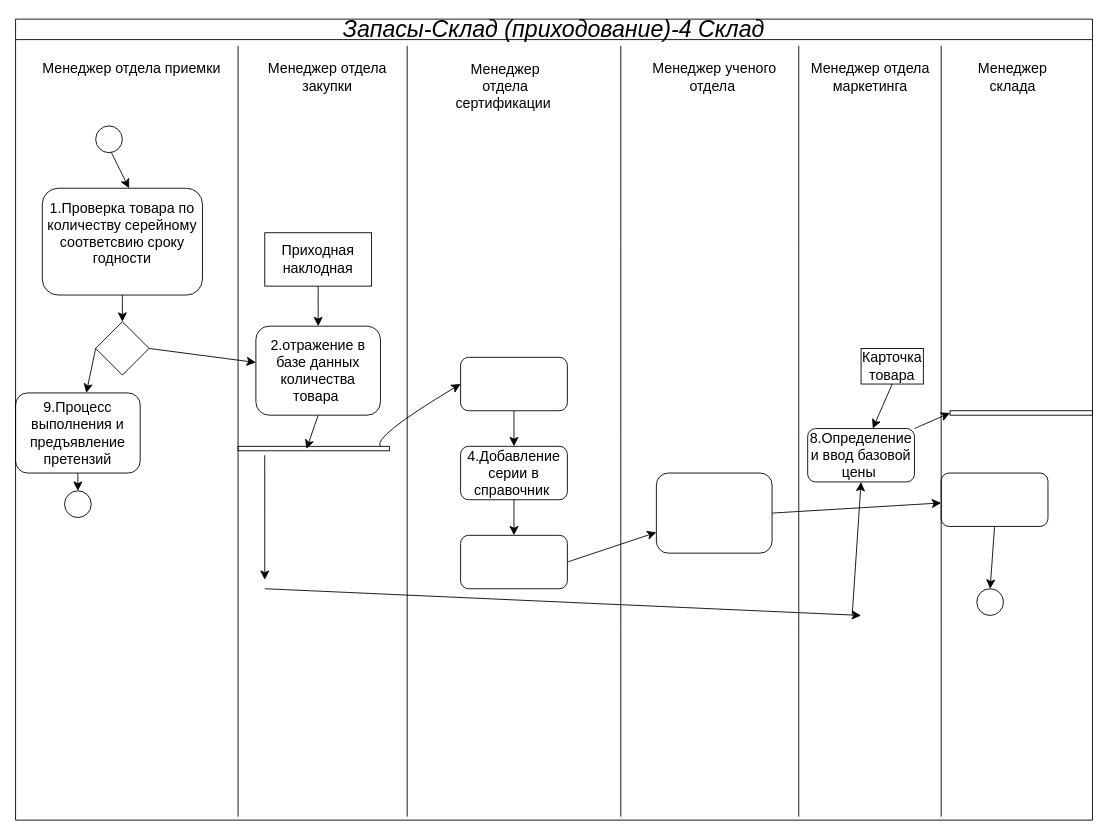
This 1108x836 diagram has some shape labels left out. Here are the shapes that lost their labels. From the top down, the centre of each, then its label:
At (x=513, y=383): "3.Поиск серии в справочнике".
At (x=713, y=512): "6.Разбиение каждой позиции номенклатуры по сериям".
At (x=994, y=499): "7.Процесс размещения серии товаров".
At (x=513, y=561): "5.Процесс сертификации".
